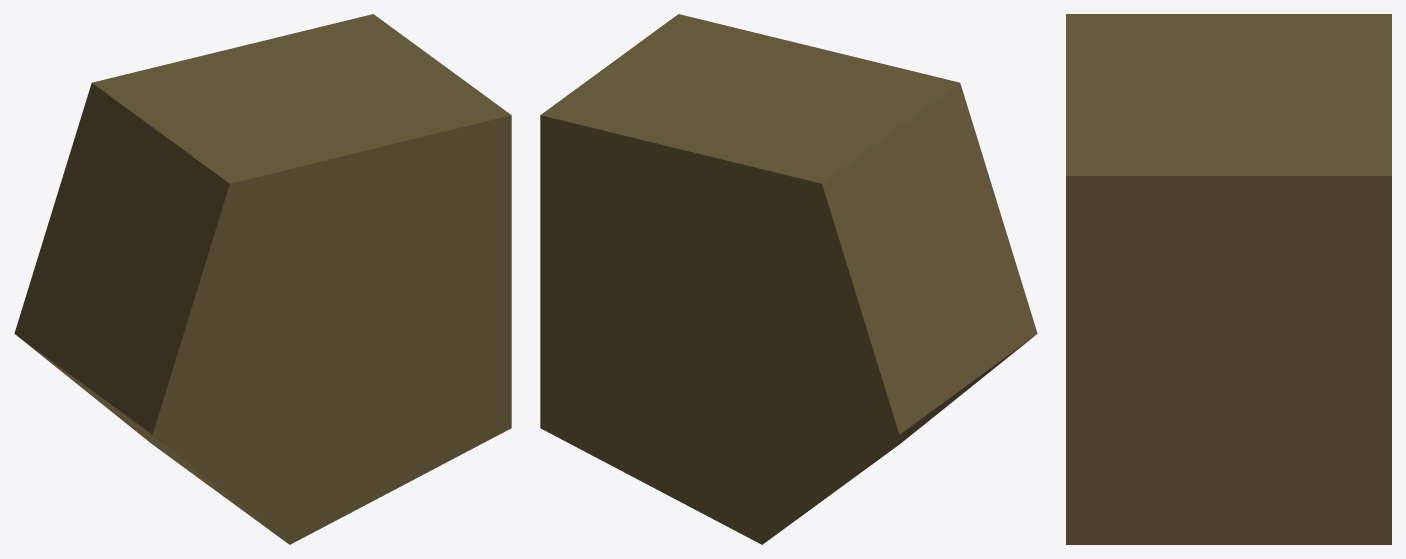
The model's file is chart_obstacle_011.obj.
3 renders of one model, left to right at view 1: azimuth 30°, elevation 25°; view 2: azimuth 150°, elevation 25°; view 3: azimuth 270°, elevation 25°, orthographic. The views are drawn at different scales.
Parts seen in each view (by area): view 1: chart_obstacle_011; view 2: chart_obstacle_011; view 3: chart_obstacle_011.
Part boxes in pixels (bbox=[...]): chart_obstacle_011: bbox=[14, 14, 511, 544]; chart_obstacle_011: bbox=[540, 14, 1037, 544]; chart_obstacle_011: bbox=[1066, 14, 1391, 544].
Bounding box in the file's own units: 12 × 12 × 8.
